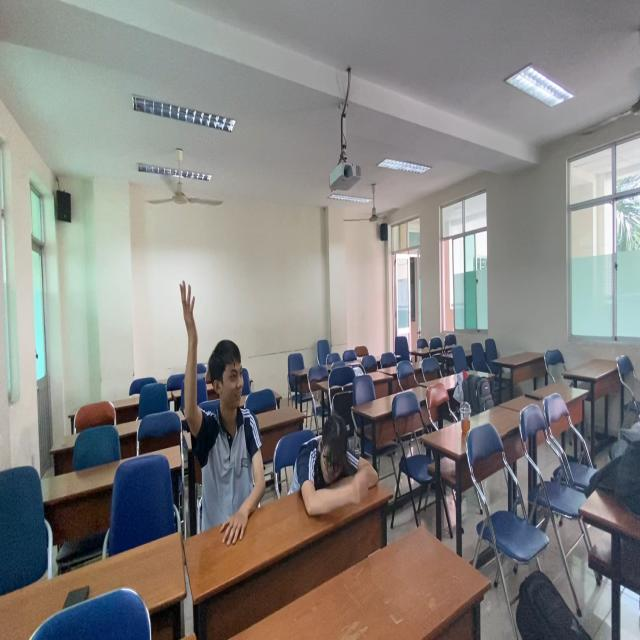raise_hand: (175, 274, 267, 513)
